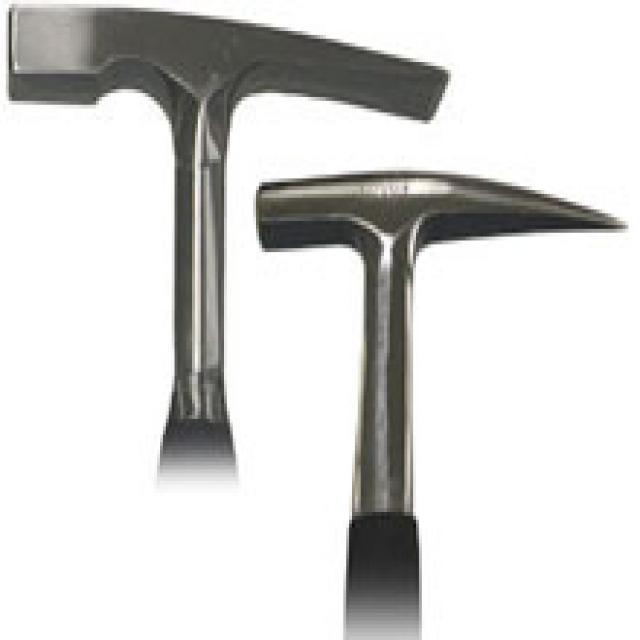hammer: (1, 0, 471, 609), (236, 155, 632, 640)
